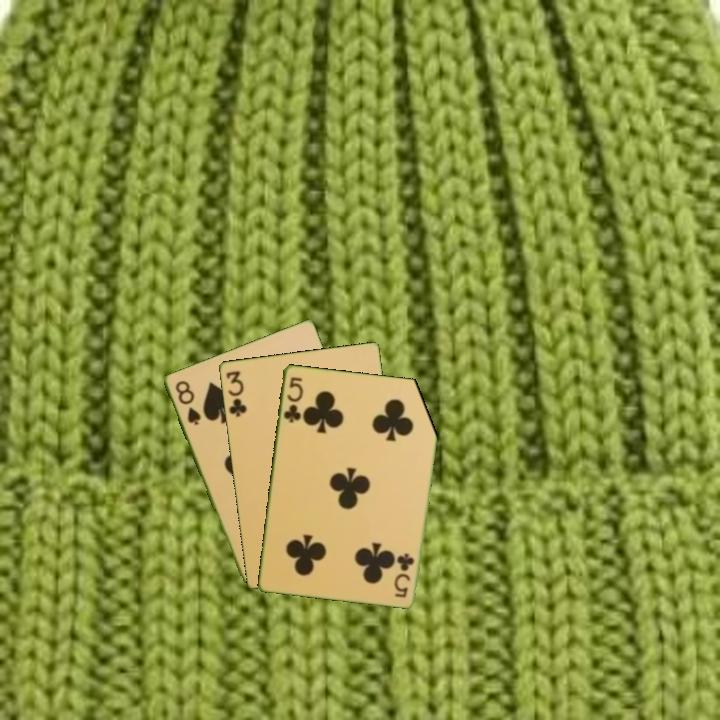3c: (222, 367, 249, 419)
5c: (280, 373, 306, 425), (392, 549, 417, 600)
8s: (171, 377, 203, 428)
